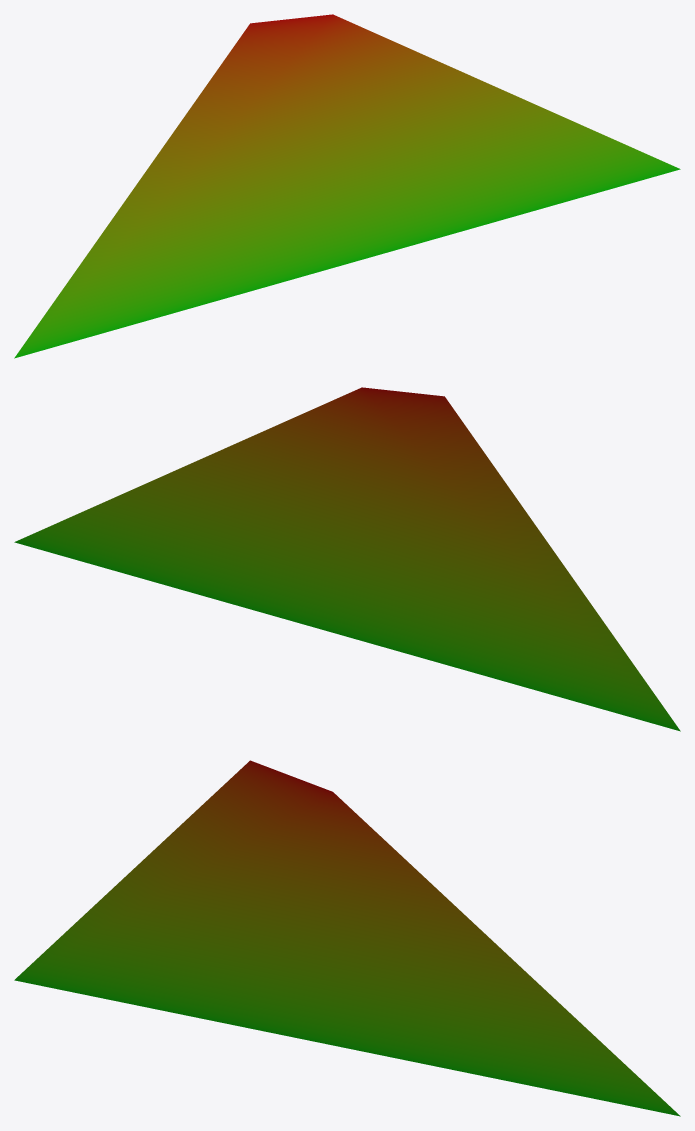
File: Great Brome_LOD5_Var7_tjugaikia.fbx
3 views of the same model, one above another, from view 1: azimuth 30°, elevation 25°; view 2: azimuth 150°, elevation 25°; view 3: azimuth 330°, elevation 25° (orthographic).
Visible parts, largest first — view 1: _3b82_Var7_LOD5; view 2: _3b82_Var7_LOD5; view 3: _3b82_Var7_LOD5.
Part boxes in pixels (x1,y1,x2,y2): _3b82_Var7_LOD5: [14, 14, 680, 358]; _3b82_Var7_LOD5: [14, 387, 680, 731]; _3b82_Var7_LOD5: [14, 760, 680, 1116].
Bounding box in the file's own units: 74.46 × 29.61 × 4.77e-07.
